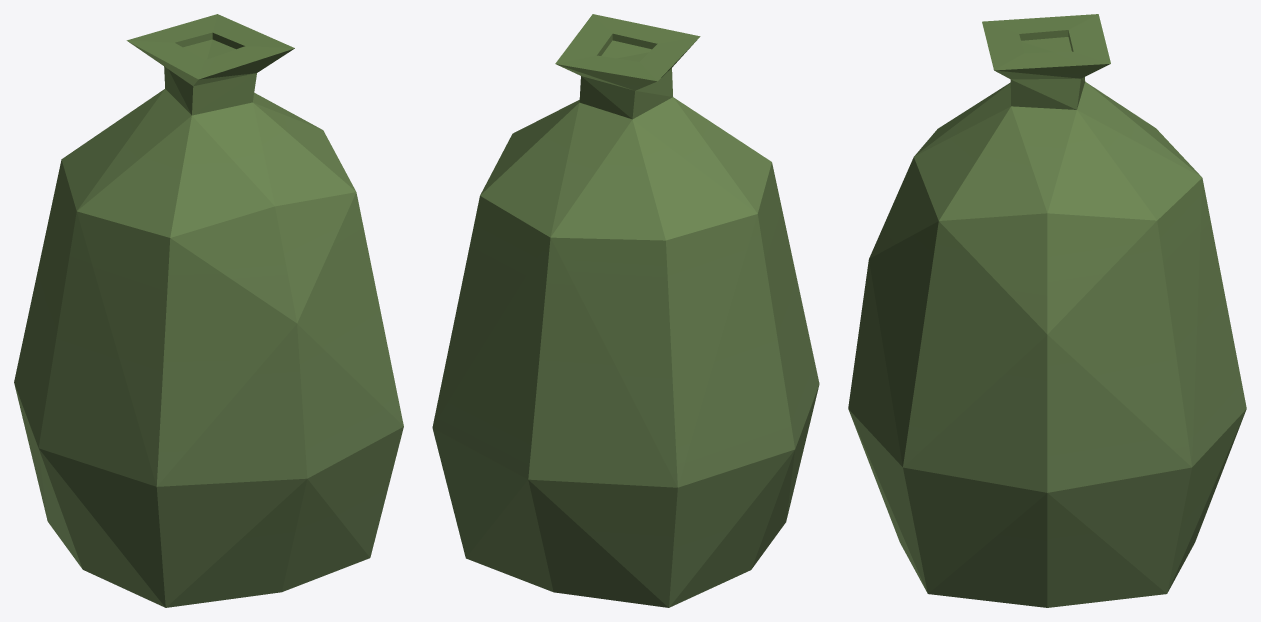
Rendered from Garbage_01.fbx.
The picture shows the model from 3 angles, left to right: view 1: azimuth 30°, elevation 25°; view 2: azimuth 150°, elevation 25°; view 3: azimuth 270°, elevation 25°; orthographic projection. The views are drawn at different scales.
Parts seen in each view (by area): view 1: Garbage_01; view 2: Garbage_01; view 3: Garbage_01.
Part boxes in pixels (x1,y1,x2,y2): Garbage_01: (14,14,403,607); Garbage_01: (432,14,819,607); Garbage_01: (848,14,1246,607).
Size of the model in its own units: 0.3948 by 0.5493 by 0.3948.
